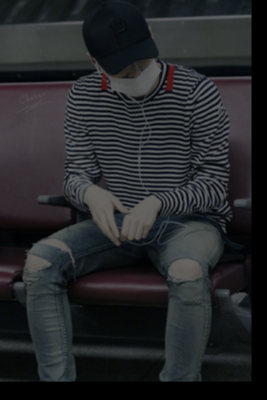mask_weared_incorrect: (101, 58, 163, 98)
